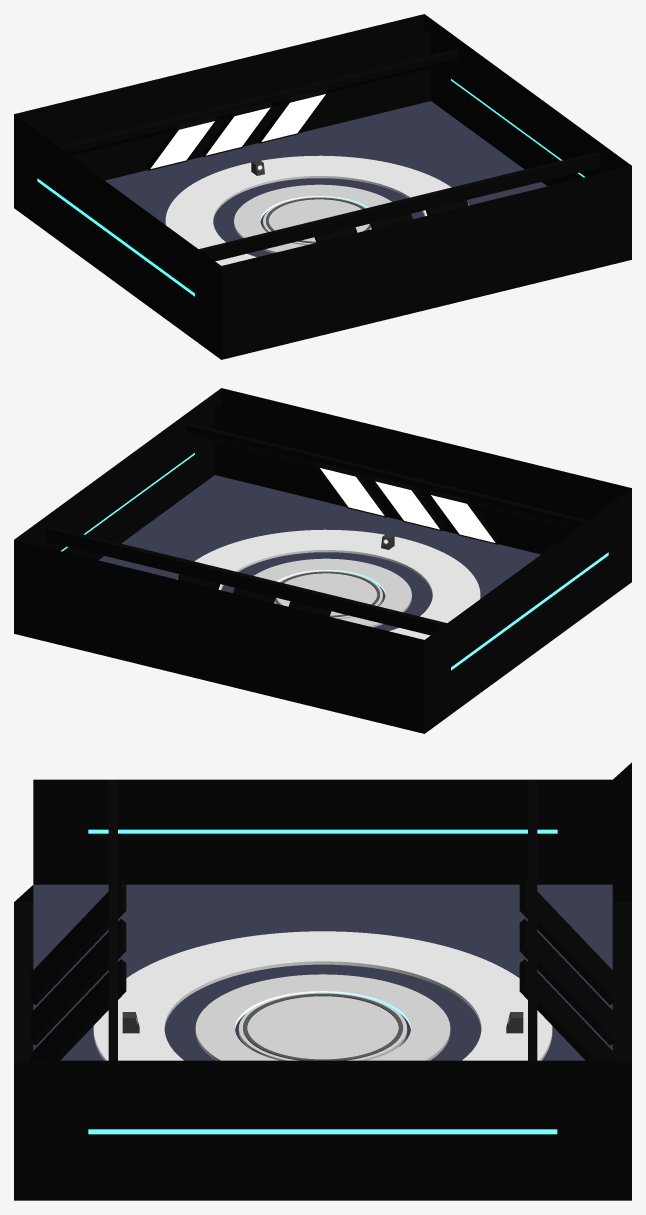
The model's file is showroom.glb.
3 renders of one model, top to bottom at view 1: azimuth 30°, elevation 25°; view 2: azimuth 150°, elevation 25°; view 3: azimuth 270°, elevation 25°, orthographic. The views are drawn at different scales.
Visible parts, largest first — view 1: Garage_Main_0.133, Garage, Garage_Main_0.2026, Garage_Main_0.126, Garage_Main_0.2037, Garage_Main_0.2034, Garage_Main_0.141, Garage_Main_0.243, Garage_Main_0.129, Garage_Main_0.127, Garage_Main_0.142, Garage_Main_0.2030 (+7 smaller); view 2: Garage_Main_0.126, Garage, Garage_Main_0.2033, Garage_Main_0.133, Garage_Main_0.2037, Garage_Main_0.2034, Garage_Main_0.147, Garage_Main_0.243, Garage_Main_0.129, Garage_Main_0.127, Garage_Main_0.136, Garage_Main_0.2030 (+7 smaller); view 3: Garage, Garage_Main_0.243, Garage_Main_0.129, Garage_Main_0.2037, Garage_Main_0.2034, Garage_Main_0.001, Garage_Main_0.2025, Garage_Main_0.130, Garage_Main_0.134, Garage_Main_0.2031, Garage_Main_0.2032, Garage_Main_0.139 (+18 smaller).
Part boxes in pixels (x1,y1,x2,y2): Garage_Main_0.133: (221,166,631,359); Garage: (37,14,631,296); Garage_Main_0.2026: (33,30,430,180); Garage_Main_0.126: (14,14,424,127); Garage_Main_0.2037: (20,131,214,292); Garage_Main_0.2034: (20,182,214,342); Garage_Main_0.141: (202,154,600,261); Garage_Main_0.243: (431,31,619,176); Garage_Main_0.129: (431,81,581,186); Garage_Main_0.127: (14,114,221,358); Garage_Main_0.142: (61,51,459,153); Garage_Main_0.2030: (20,201,214,354); Garage_Main_0.126: (14,540,424,733); Garage: (14,388,608,670); Garage_Main_0.2033: (215,404,612,554); Garage_Main_0.133: (221,388,631,501); Garage_Main_0.2037: (431,505,625,666); Garage_Main_0.2034: (431,556,624,716); Garage_Main_0.147: (45,528,443,635); Garage_Main_0.243: (26,405,214,550); Garage_Main_0.129: (64,455,214,560); Garage_Main_0.127: (425,488,631,646); Garage_Main_0.136: (186,425,584,527); Garage_Main_0.2030: (431,575,625,728); Garage: (14,829,631,1134); Garage_Main_0.243: (34,1078,611,1128); Garage_Main_0.129: (33,1134,612,1183); Garage_Main_0.2037: (33,779,612,829); Garage_Main_0.2034: (34,834,611,884); Garage_Main_0.001: (14,1183,631,1200); Garage_Main_0.2025: (14,902,631,1060); Garage_Main_0.130: (33,1078,88,1182); Garage_Main_0.134: (557,1078,612,1182); Garage_Main_0.2031: (557,780,612,884); Garage_Main_0.2032: (33,780,88,884); Garage_Main_0.139: (108,779,117,1060).
Size of the model in its own units: 19.61 by 4.26 by 17.03.
